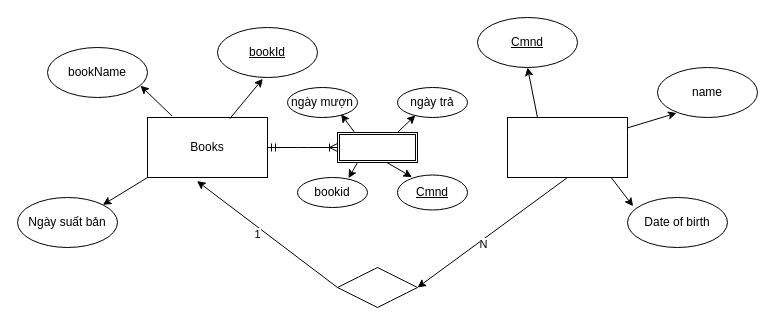
Image size: 775x325. Some labels were removed from this diagram. The centre of each missing label's shape, as x and y in pixels:
"Bảng phụ" belongs at point (377, 147).
"Mối quan hệ mượn" belongs at point (377, 287).
"Readers" belongs at point (567, 147).
